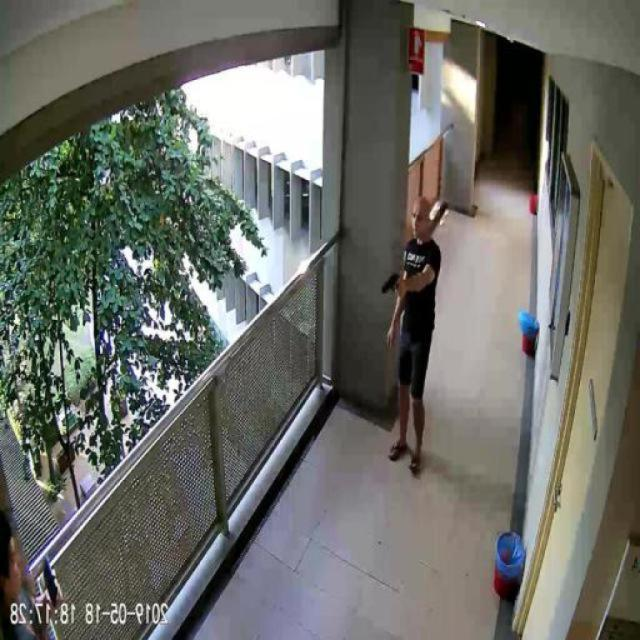pistol: (384, 270, 404, 298)
